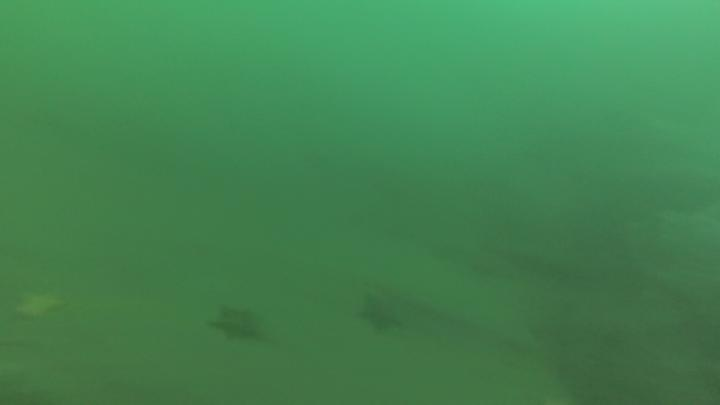starfish: (206, 300, 269, 346), (353, 290, 407, 336), (12, 288, 72, 323)
